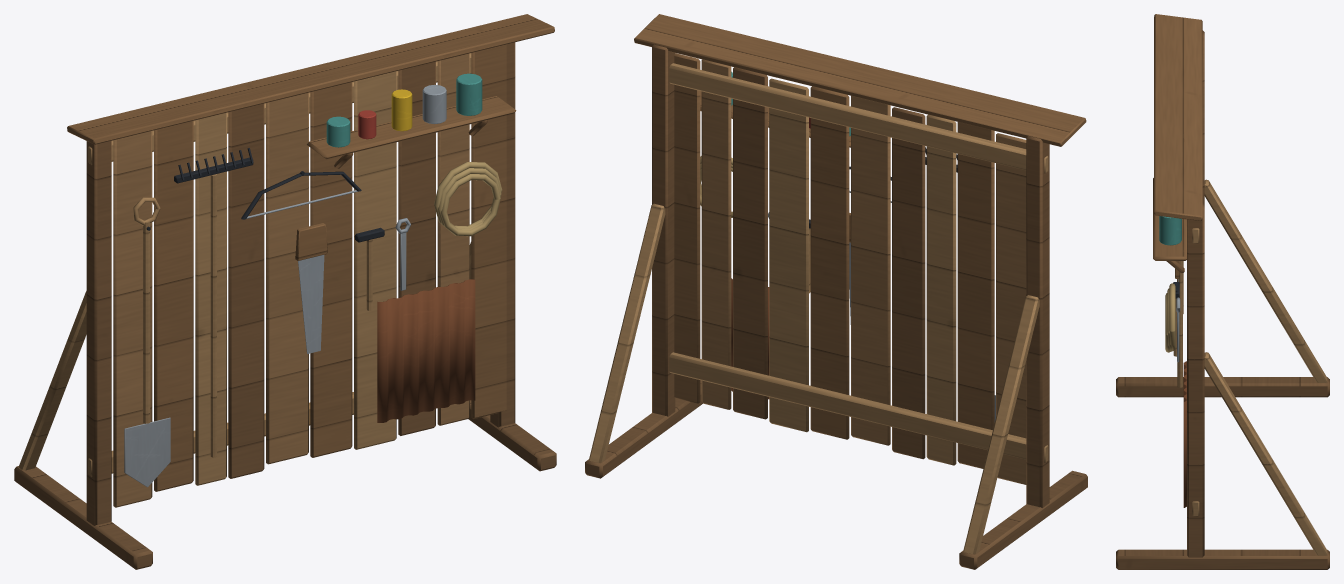
File: tool_wall.glb
The picture shows the model from 3 angles, left to right: view 1: azimuth 30°, elevation 25°; view 2: azimuth 150°, elevation 25°; view 3: azimuth 270°, elevation 25°; orthographic projection. The views are drawn at different scales.
Visible parts, largest first — view 1: tool_wall.001; view 2: tool_wall.001; view 3: tool_wall.001.
Boxes of the visible parts, left/top/right/bottom form: tool_wall.001: left=14, top=14, right=556, bottom=569; tool_wall.001: left=585, top=14, right=1087, bottom=569; tool_wall.001: left=1116, top=14, right=1329, bottom=569.
Size of the model in its own units: 2.4 by 2.09 by 1.1.
Materials: 20 (20 with a texture image).
